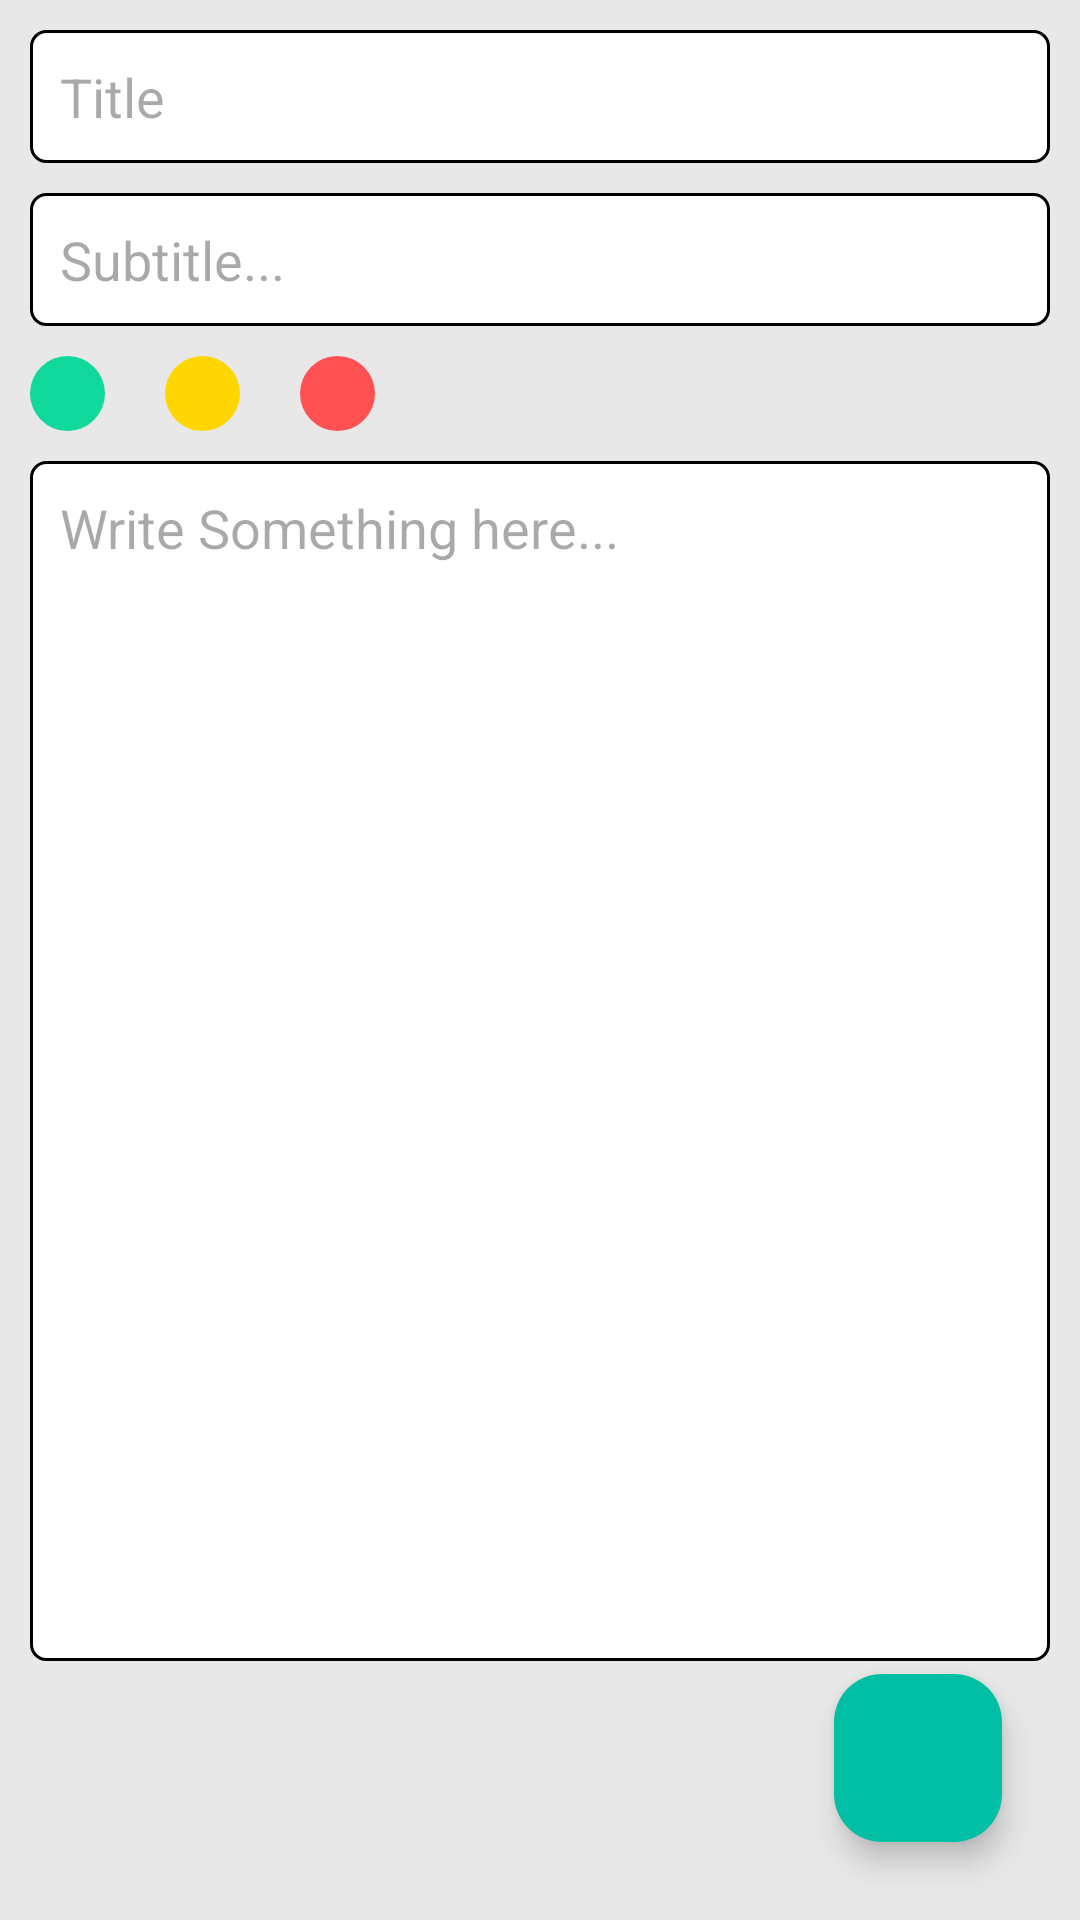

Icon click points for this 1080*1920 phone screenshot, format (x=x, y=y):
dot: (x=67, y=393), (x=202, y=393), (x=337, y=393)
